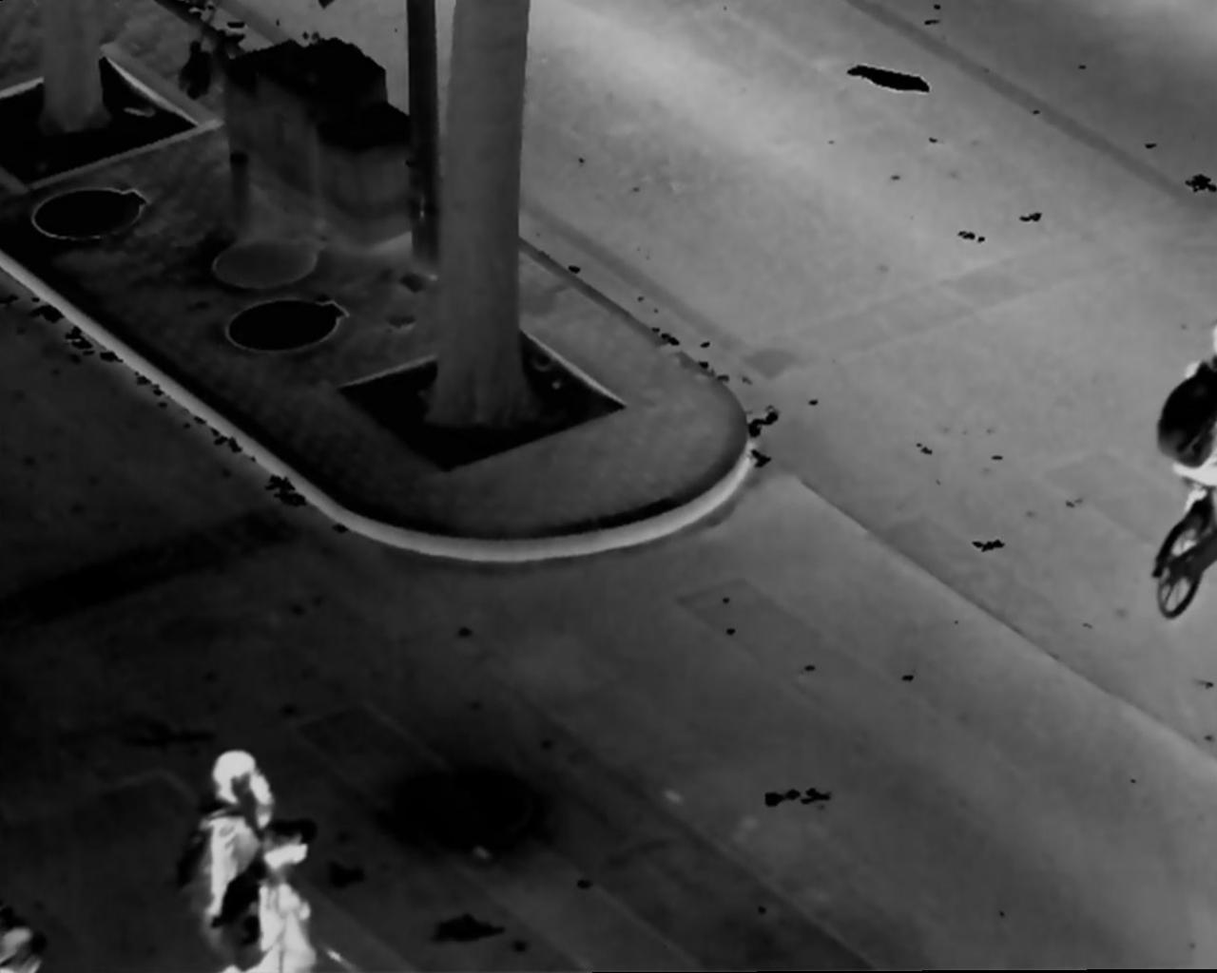person: (182, 747, 280, 973), (229, 817, 336, 973), (1161, 299, 1217, 512)
